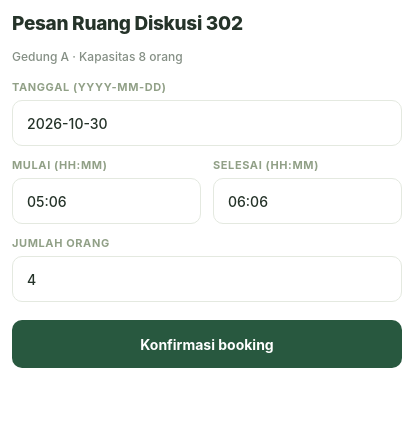
Test case: booking form state management › shows repository submission errors and allows another attempt
Click the button "Konfirmasi booking" at (207, 344), box [12, 320, 402, 368]
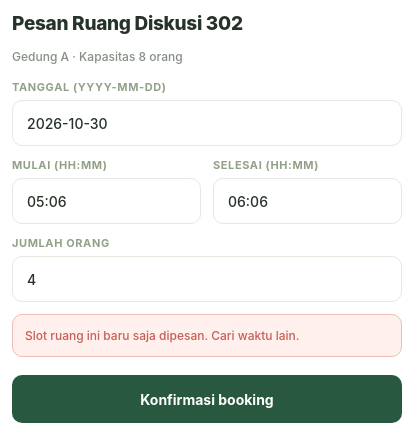
Expected: the button "Konfirmasi booking" is enabled, [12, 375, 402, 423]
Expected: the text "Slot ruang ini baru saja dipesan. Cari waktu lain." is shown, [25, 328, 299, 343]
